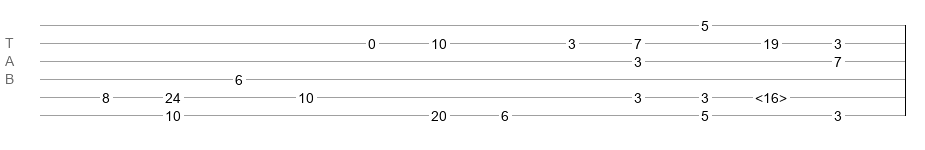0: (368, 36, 376, 46)
10: (165, 108, 181, 118), (298, 90, 314, 100), (431, 36, 447, 46)
19: (763, 36, 779, 46)
20: (431, 108, 447, 118)
24: (165, 90, 181, 100)
3: (568, 36, 576, 46), (634, 54, 642, 64), (634, 90, 642, 100), (701, 90, 709, 100), (834, 108, 842, 118), (834, 36, 842, 46)
5: (701, 18, 709, 28), (701, 108, 709, 118)
6: (235, 72, 243, 82), (501, 108, 509, 118)
7: (634, 36, 642, 46), (834, 54, 842, 64)
8: (102, 90, 110, 100)
harmonic: (755, 90, 787, 100)
